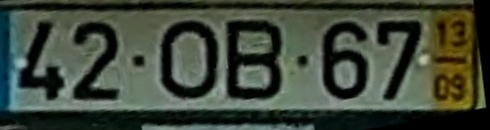2: (67, 16, 124, 103)
4: (15, 17, 68, 104)
6: (317, 15, 372, 104)
7: (373, 17, 425, 106)
B: (221, 16, 287, 104)
O: (155, 15, 222, 105)
